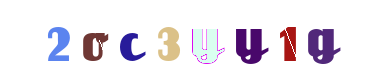1: (215, 0, 295, 80)
2: (19, 0, 99, 80)
3: (153, 0, 233, 80)
C: (135, 0, 215, 80)
G: (249, 0, 329, 80)
O: (53, 0, 133, 80)
Y: (166, 0, 246, 80), (194, 0, 274, 80)
